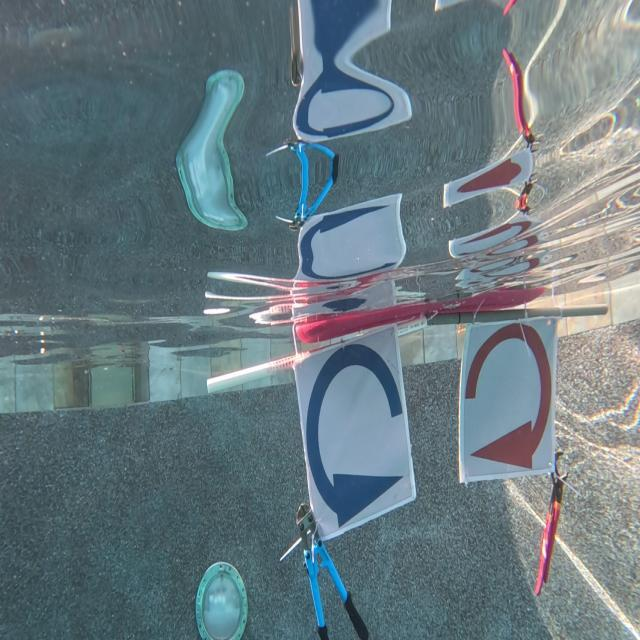blue_side: (295, 339, 415, 532)
red_side: (462, 324, 549, 474)
